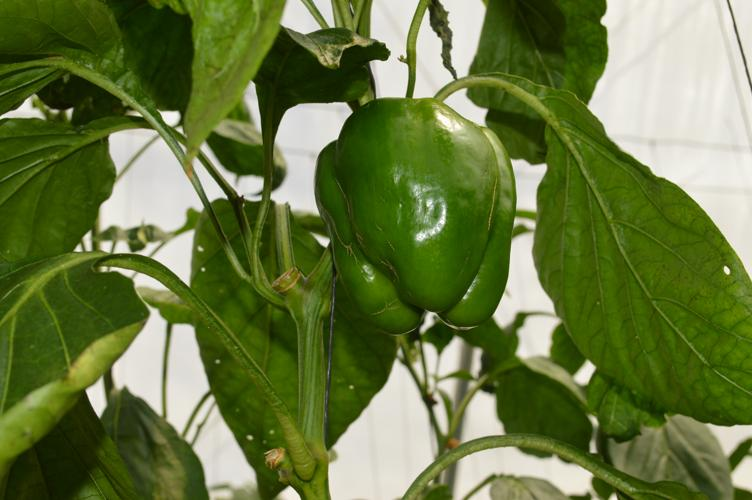BellPepper: (312, 94, 519, 332)
